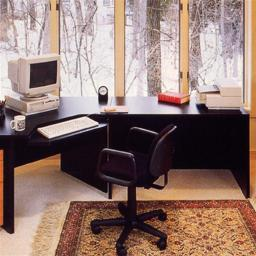Ventana: (4, 3, 245, 100)
